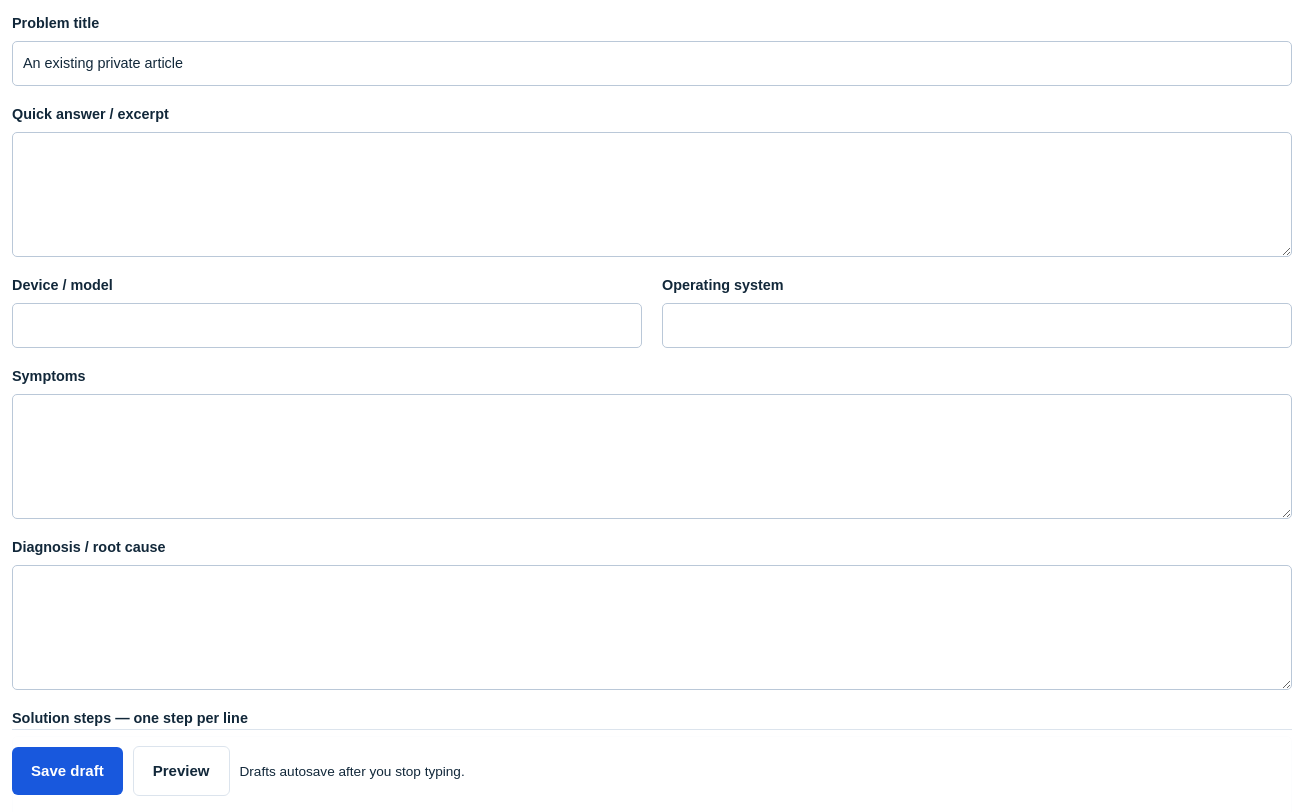
Test case: mobile technician editor › retains edits typed while an earlier save is in flight
The image size is (1304, 812).
Click the button "Save draft": (67, 771) [12,747,123,795]
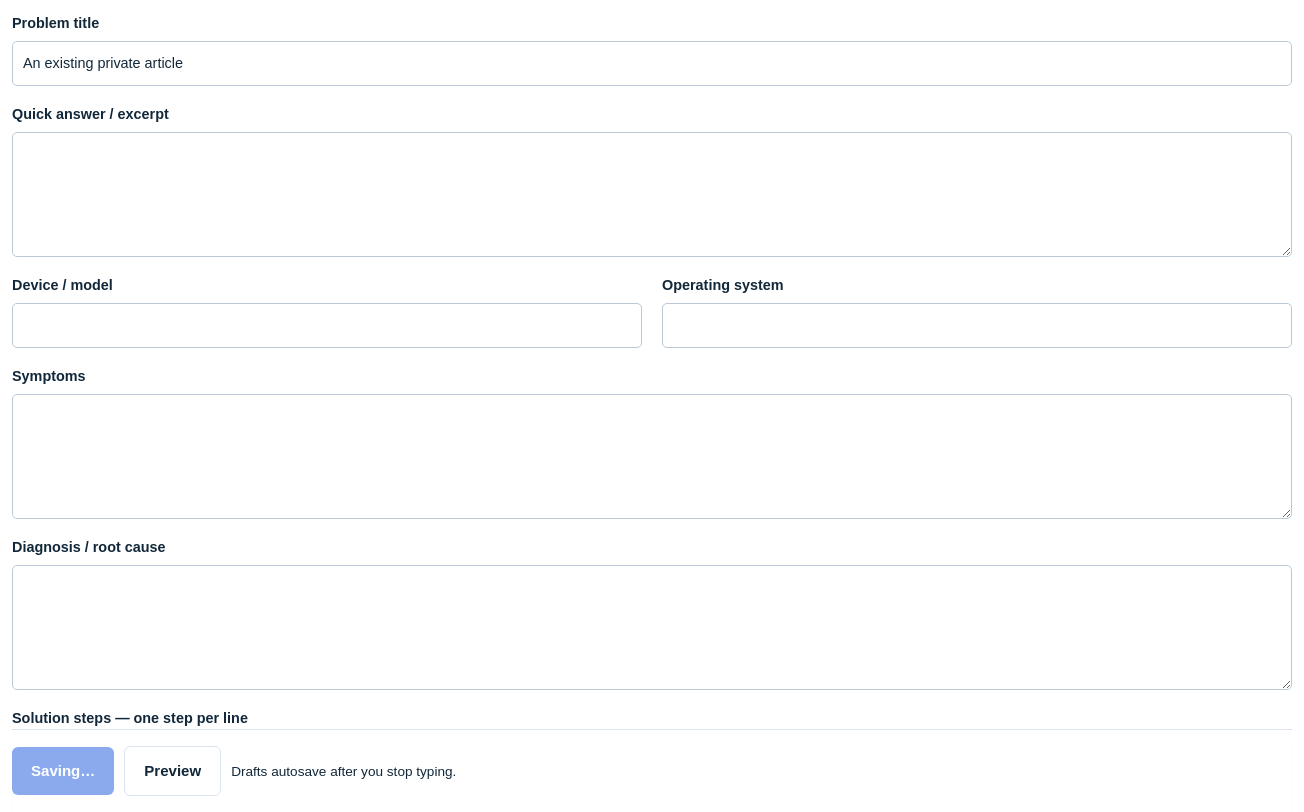
Replace the text in the field labelled "Problem title" with "Newer unsaved title": (652, 64) [12,41,1292,86]
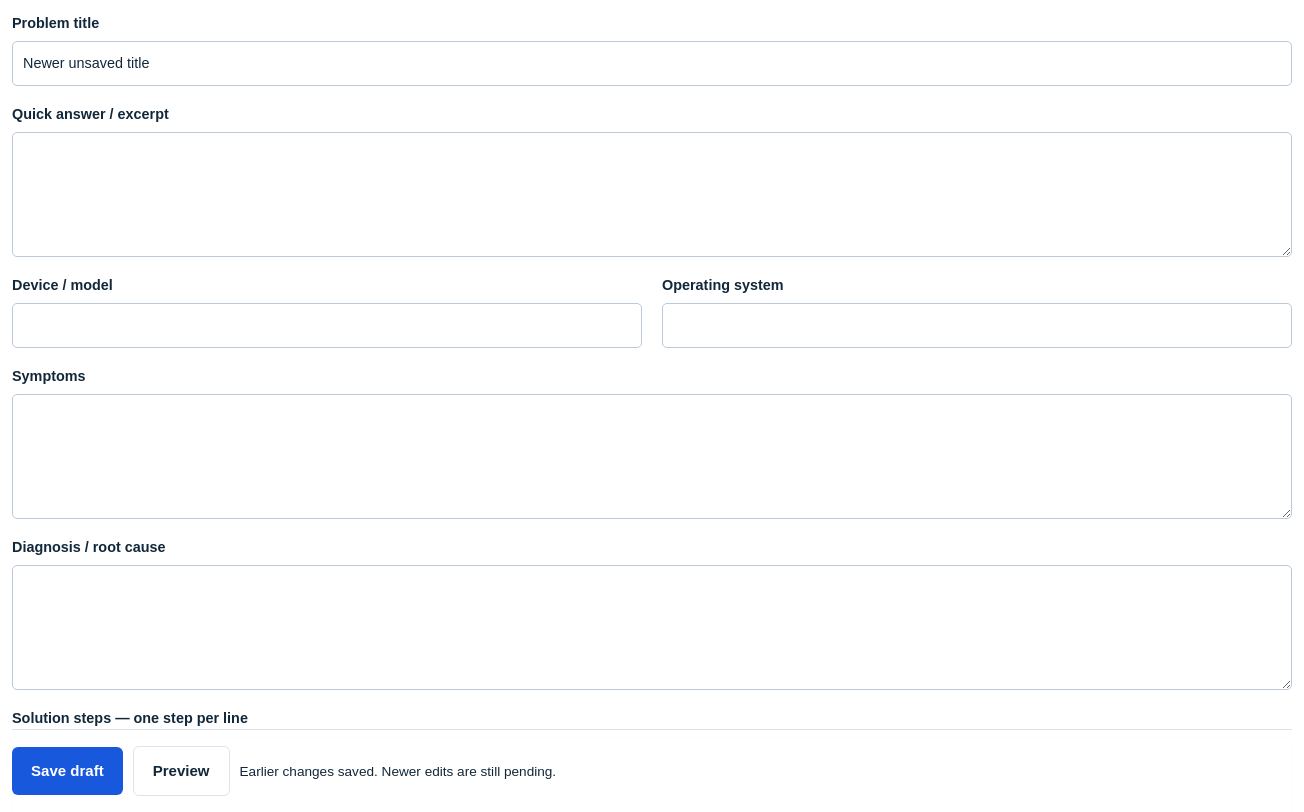
Result: the message named "Save status" shows "Newer edits are still pending" at [240,763,556,778]
